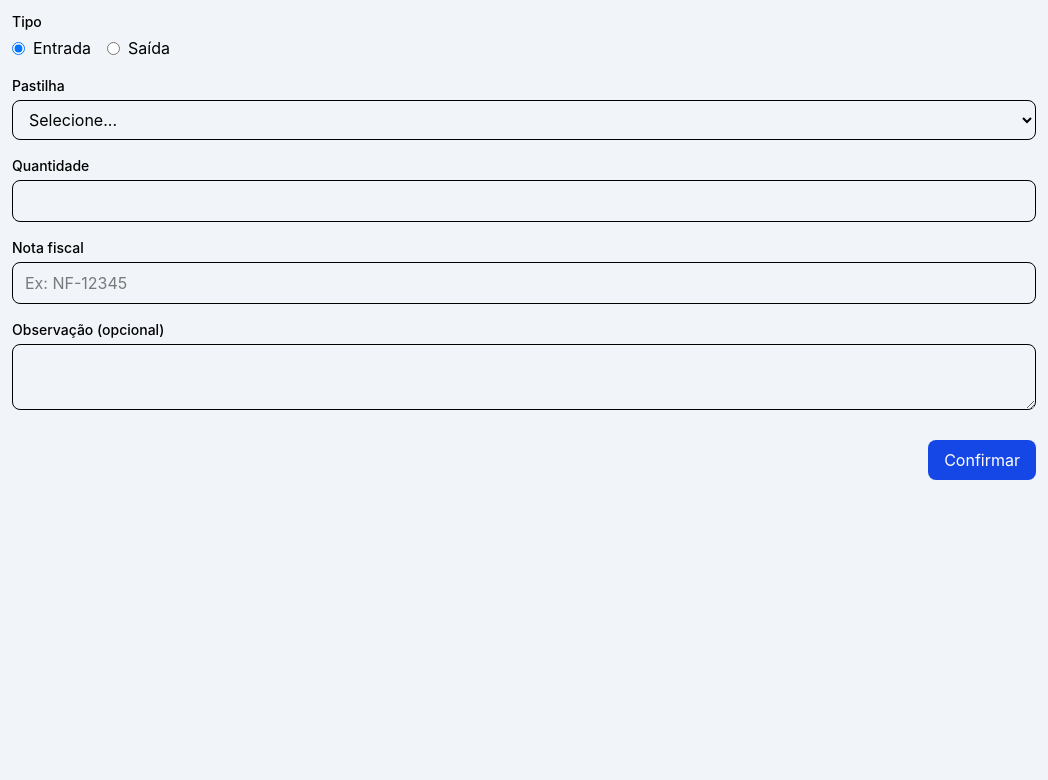
Test: MovimentacaoForm › CT72 - RF05/RN09/RN10: saída válida envia o destino e mostra o saldo previsto
Later steps or results of the test are not shown.
Select "PST-001 - CNMG (Estoque: 10)" in the dropdown labelled "Pastilha" at {"x": 524, "y": 120}, box [12, 100, 1036, 140]
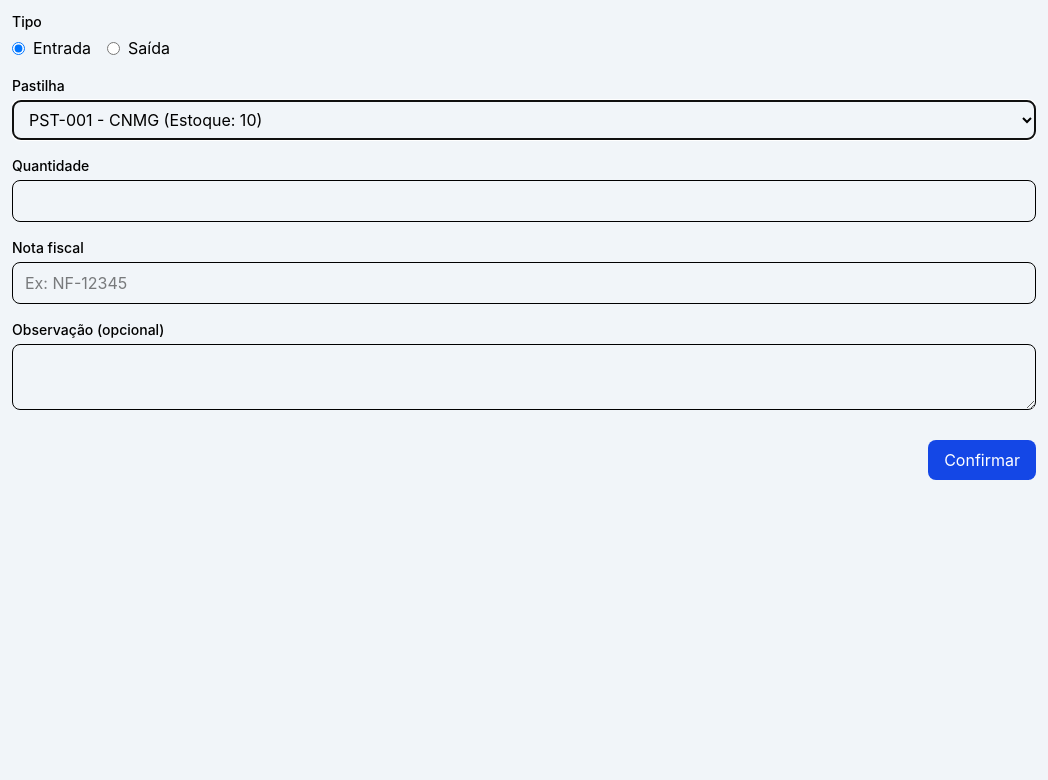
Click the radio button labelled "Saída" at {"x": 114, "y": 48}, box [107, 42, 120, 54]
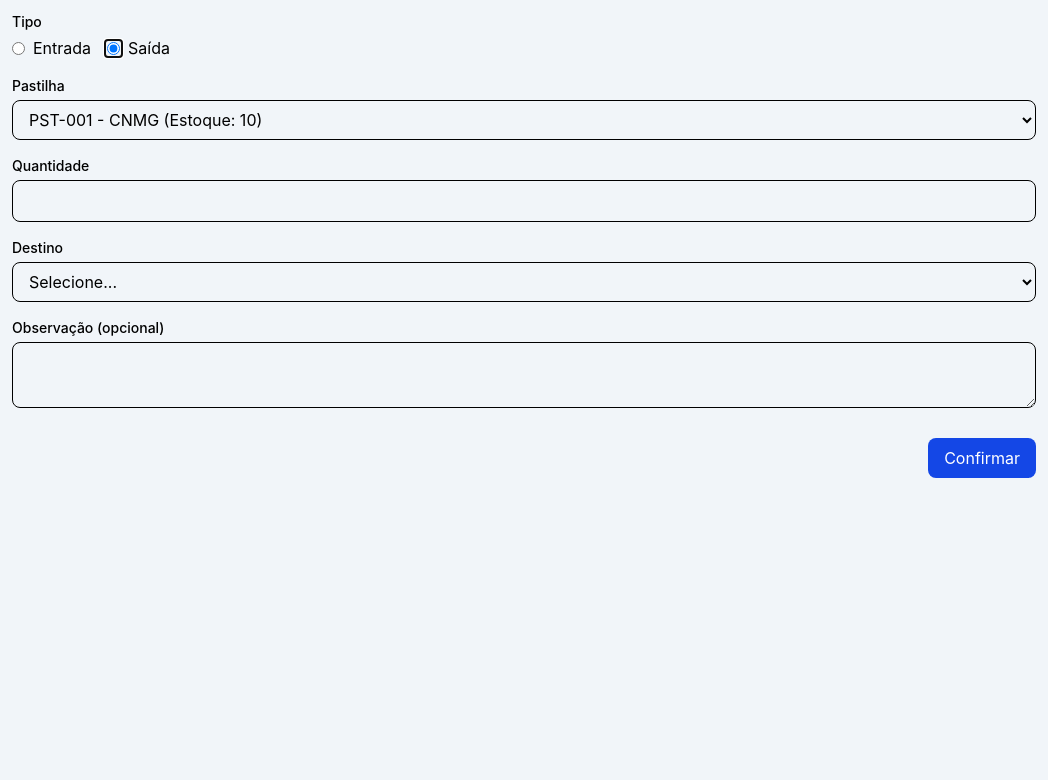
Type "4" into the number field labelled "Quantidade" at {"x": 524, "y": 201}, box [12, 180, 1036, 222]
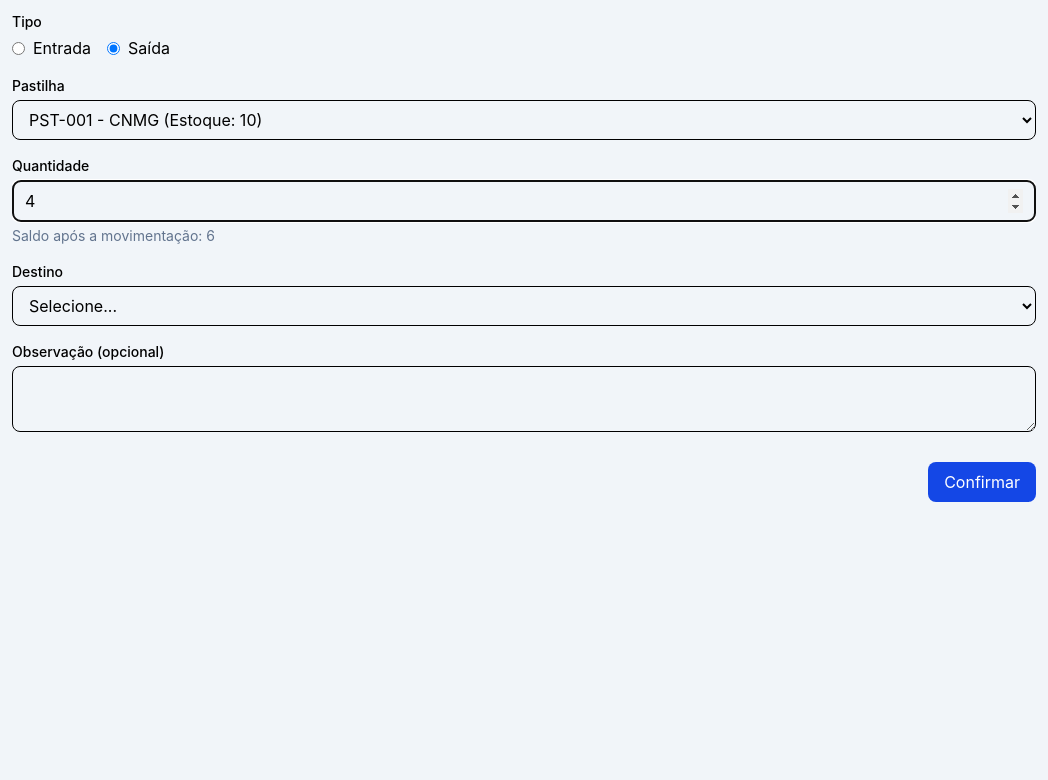
// RN09 – sem destino a saída não é enviada
Click the button "Confirmar" at {"x": 982, "y": 482}, box [928, 462, 1036, 502]
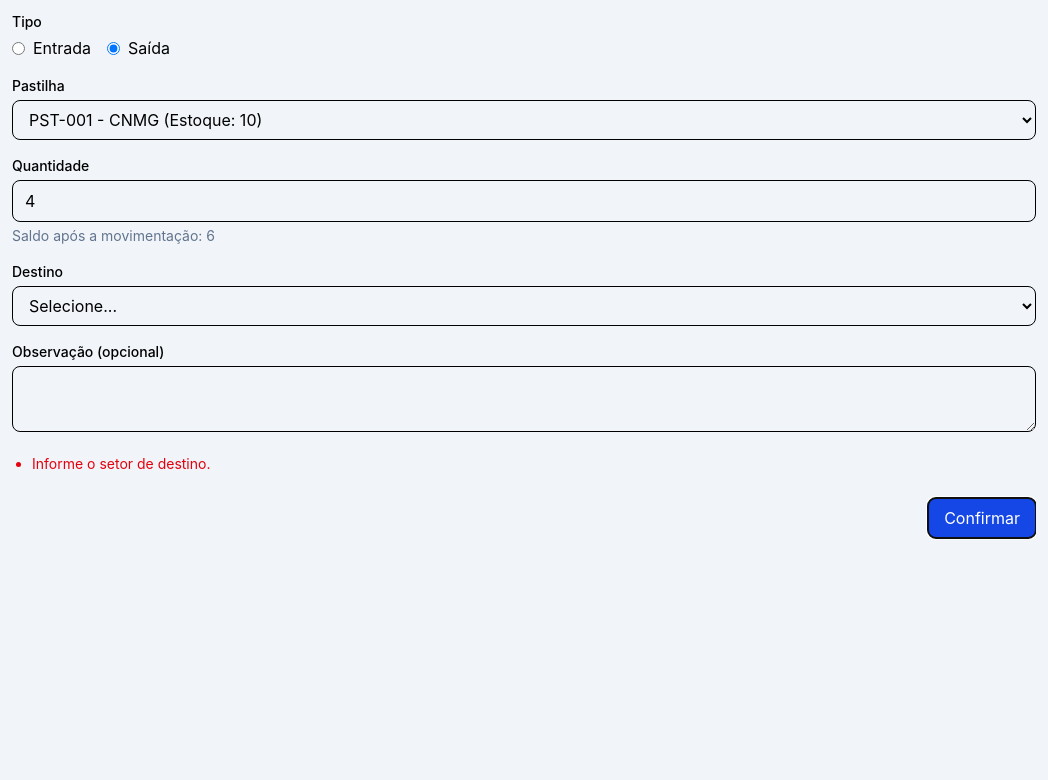
Now the message reads "Informe o setor de destino.", box [32, 455, 210, 472]
Select "Manutenção" in the dropdown labelled "Destino" at {"x": 524, "y": 306}, box [12, 286, 1036, 326]
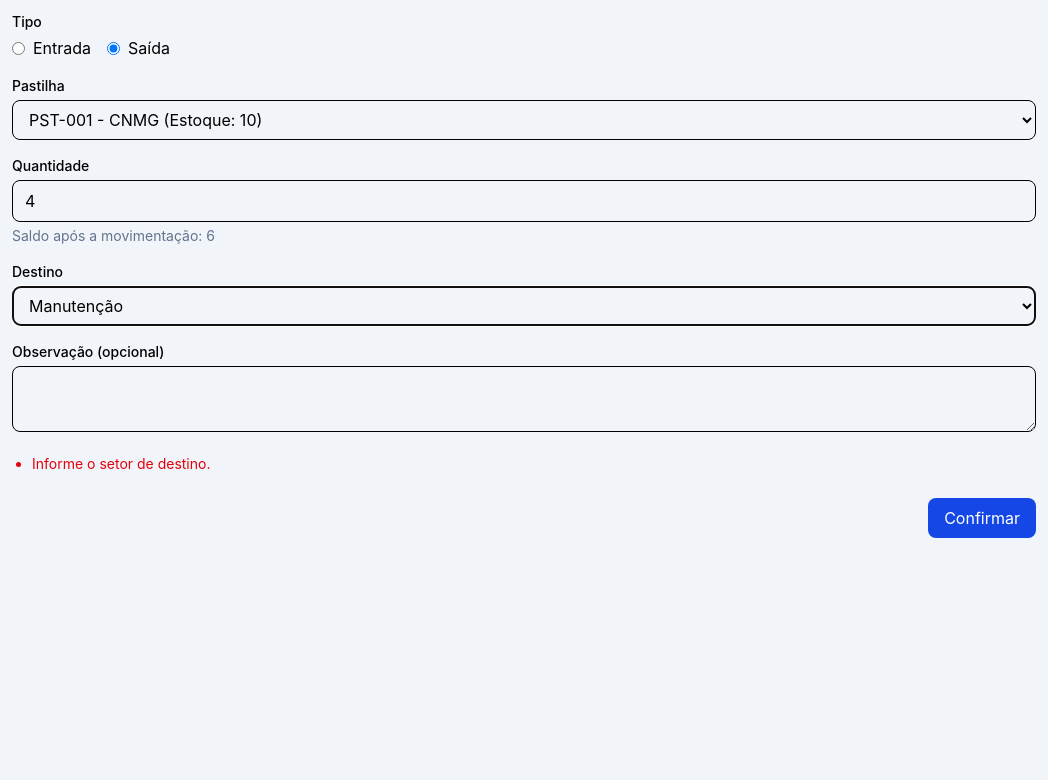
Now the text with test id "saldo-previsto" reads "Saldo após a movimentação: 6", box [12, 227, 215, 244]
